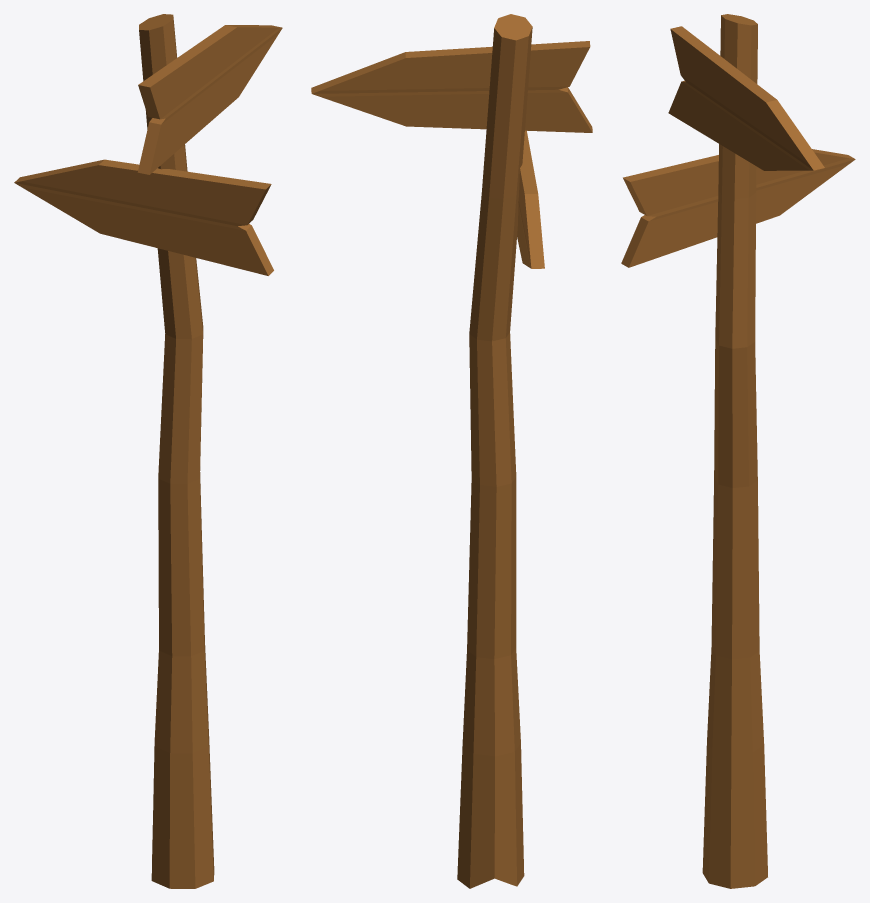
Rendered from Petunjuk1.fbx.
The picture shows the model from 3 angles, left to right: view 1: azimuth 30°, elevation 25°; view 2: azimuth 150°, elevation 25°; view 3: azimuth 270°, elevation 25°; orthographic projection.
Visible parts, largest first — view 1: Circle.007; view 2: Circle.007; view 3: Circle.007.
Part boxes in pixels (left/top/right/bottom): Circle.007: left=14, top=14, right=282, bottom=888; Circle.007: left=311, top=14, right=592, bottom=888; Circle.007: left=621, top=14, right=855, bottom=888.
Bounding box in the file's own units: 115 × 377 × 94.35.
